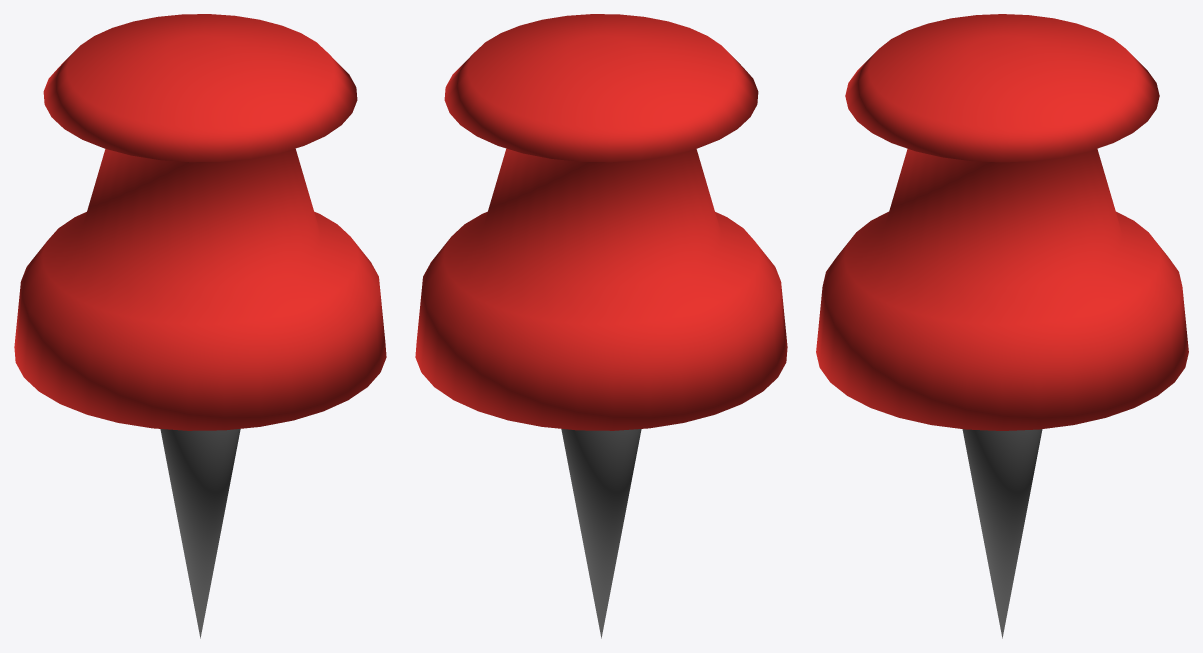
File: PushPin.fbx
The picture shows the model from 3 angles, left to right: view 1: azimuth 30°, elevation 25°; view 2: azimuth 150°, elevation 25°; view 3: azimuth 270°, elevation 25°; orthographic projection.
Parts seen in each view (by area): view 1: Cylinder, Cone; view 2: Cylinder, Cone; view 3: Cylinder, Cone.
Part boxes in pixels (x1,y1,x2,y2): Cylinder: (14,14,386,430); Cone: (160,429,240,638); Cylinder: (415,14,787,430); Cone: (561,429,641,638); Cylinder: (816,14,1188,430); Cone: (962,429,1042,638).
Size of the model in its own units: 15.68 by 27.28 by 15.68.
